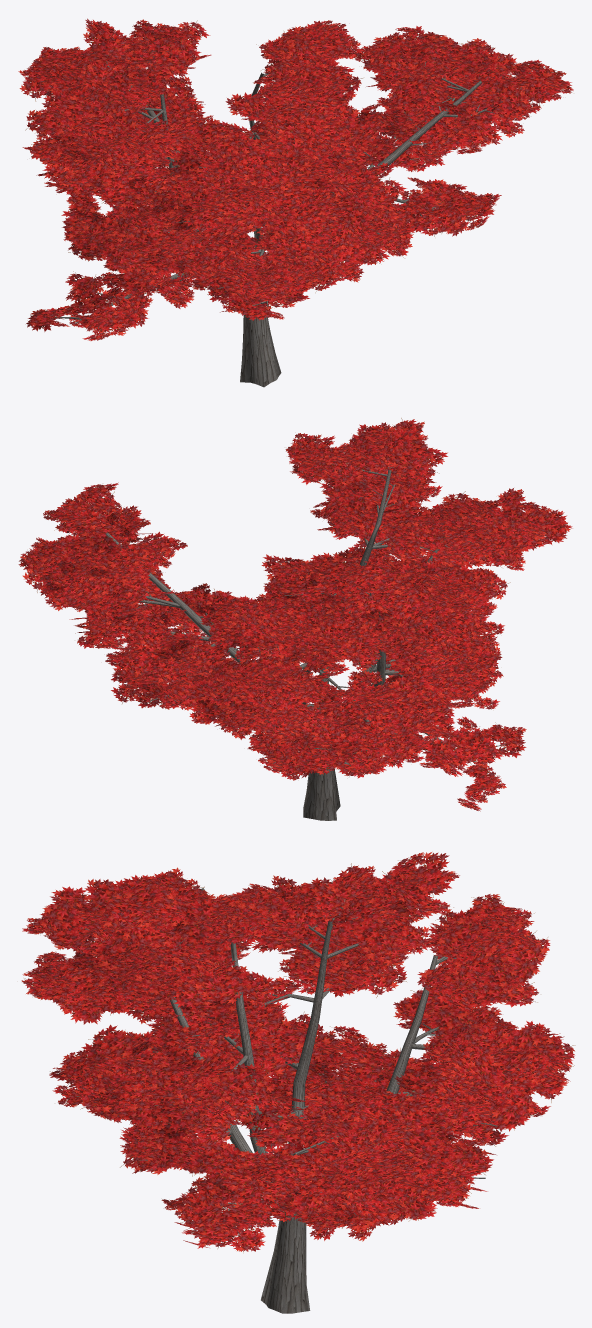
Rendered from tree-jmaple-red.glb.
3 renders of one model, top to bottom at view 1: azimuth 30°, elevation 25°; view 2: azimuth 150°, elevation 25°; view 3: azimuth 270°, elevation 25°, orthographic. The views are drawn at different scales.
Visible parts, largest first — view 1: leaves, bark; view 2: leaves, bark; view 3: leaves, bark.
Part boxes in pixels (left/top/right/bottom): leaves: left=18, top=18, right=573, bottom=340; bark: left=43, top=44, right=531, bottom=387; leaves: left=18, top=418, right=572, bottom=811; bark: left=63, top=464, right=506, bottom=820; leaves: left=21, top=852, right=575, bottom=1252; bark: left=49, top=888, right=549, bottom=1313.
Bounding box in the file's own units: 7.68 × 5.18 × 6.22.
Materials: 2 (2 with a texture image).
